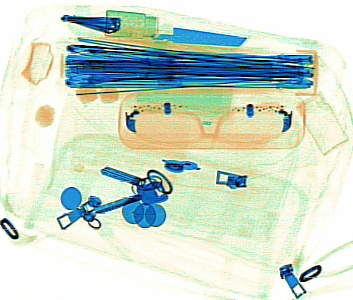knife: (102, 22, 248, 48)
